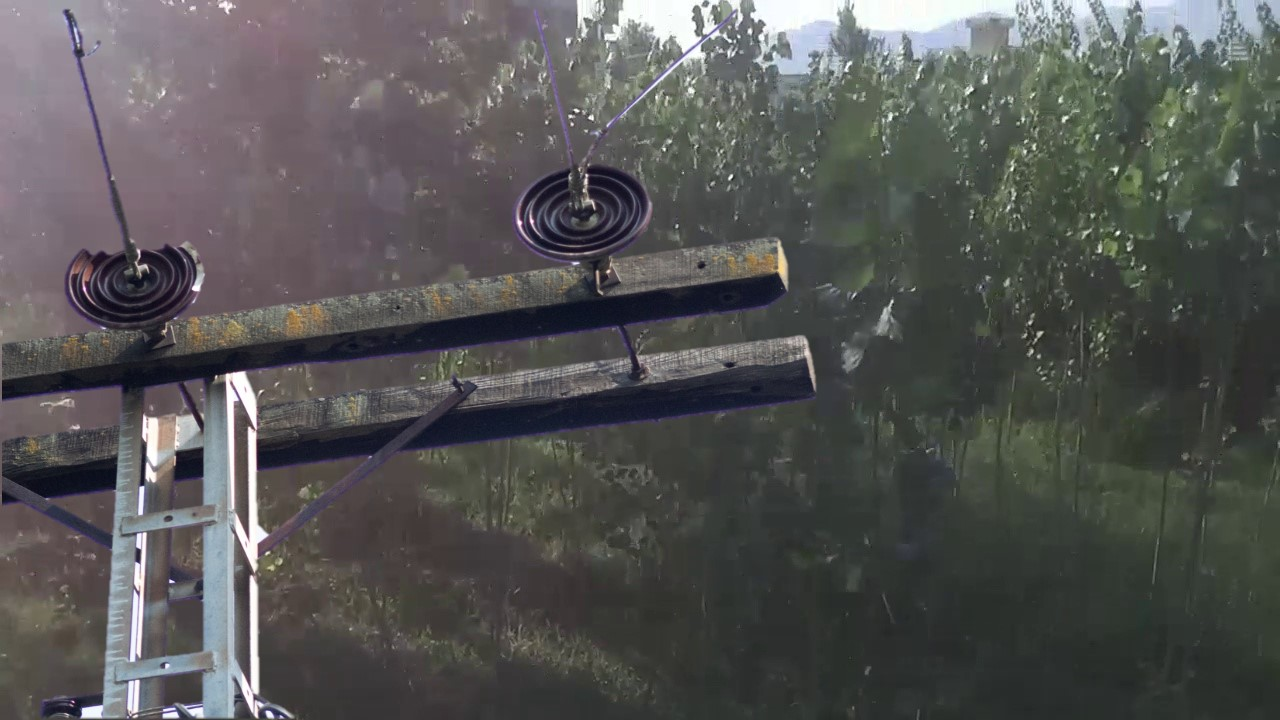defect_disc: (60, 235, 212, 332)
insulator_disc: (511, 159, 662, 263)
